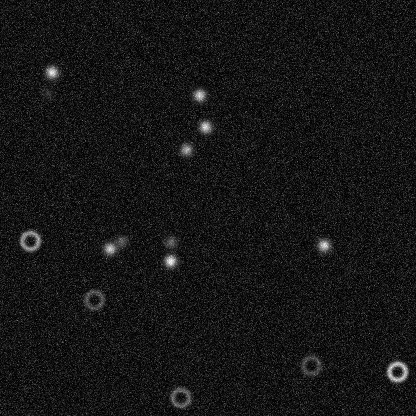Ring: (168, 385, 192, 409), (81, 287, 105, 311), (298, 353, 322, 377), (385, 359, 409, 383), (18, 228, 42, 252)
Spot: (315, 237, 331, 253), (162, 252, 178, 268), (101, 240, 117, 256), (197, 118, 213, 134), (178, 141, 194, 157), (191, 86, 207, 102), (113, 233, 129, 249), (162, 234, 178, 250), (43, 64, 59, 80), (39, 85, 55, 101)
